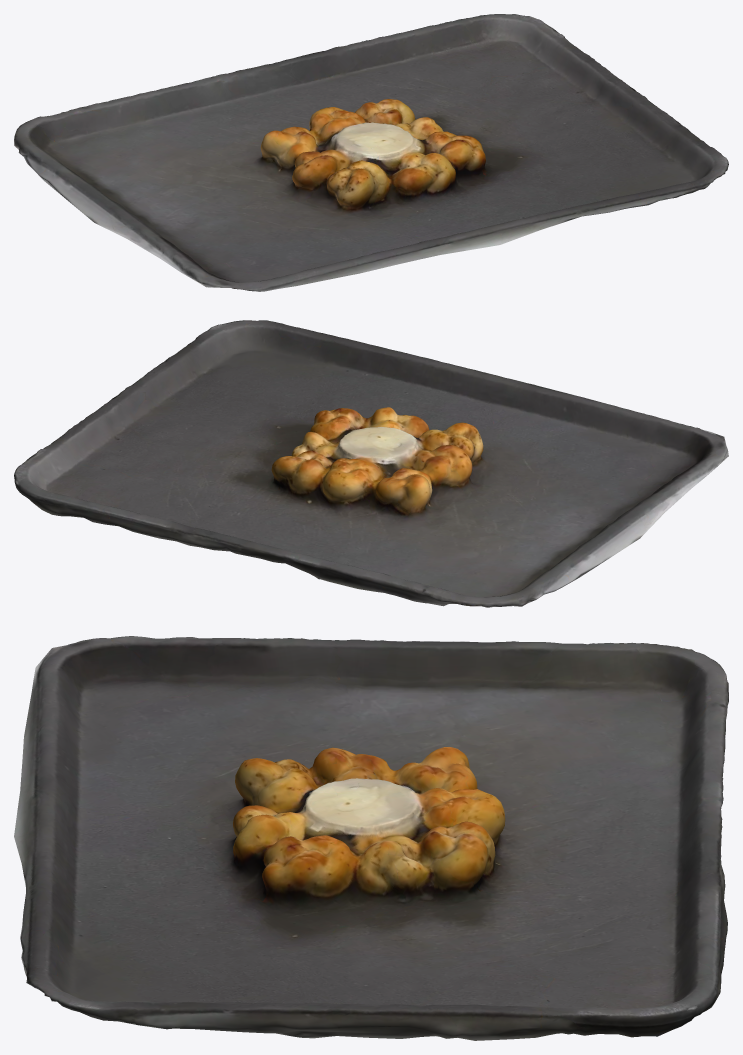
The model's file is optimized_gcbread.glb.
The picture shows the model from 3 angles, top to bottom: view 1: azimuth 30°, elevation 25°; view 2: azimuth 150°, elevation 25°; view 3: azimuth 270°, elevation 25°; orthographic projection. The views are drawn at different scales.
Parts seen in each view (by area): view 1: Mesh_0.005; view 2: Mesh_0.005; view 3: Mesh_0.005.
Boxes of the visible parts, x1,y1,x2,y2 form: Mesh_0.005: (14,14,728,291); Mesh_0.005: (14,320,728,607); Mesh_0.005: (14,636,728,1040).
Size of the model in its own units: 0.3821 by 0.0382 by 0.2998.
1 material, 1 textured.
